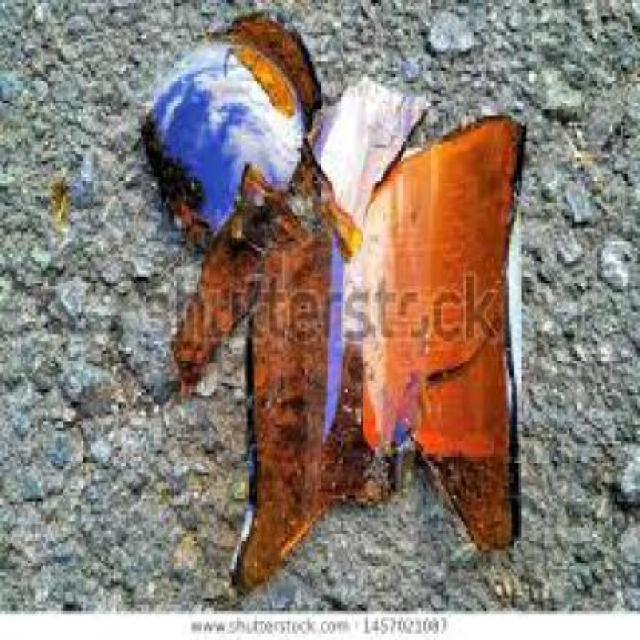kaca: (226, 112, 525, 590), (169, 136, 360, 387), (142, 11, 323, 258), (48, 173, 68, 224)
